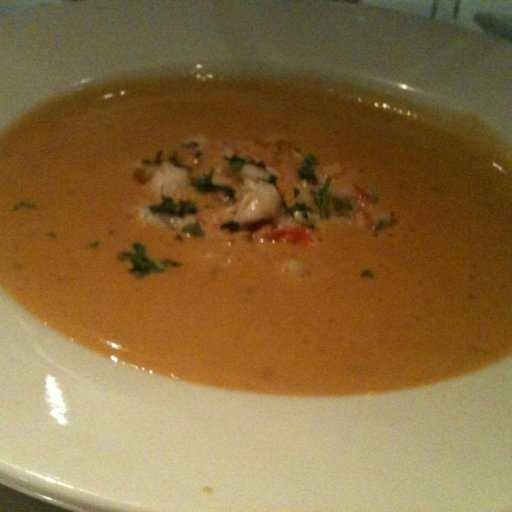soup: (2, 85, 512, 444)
